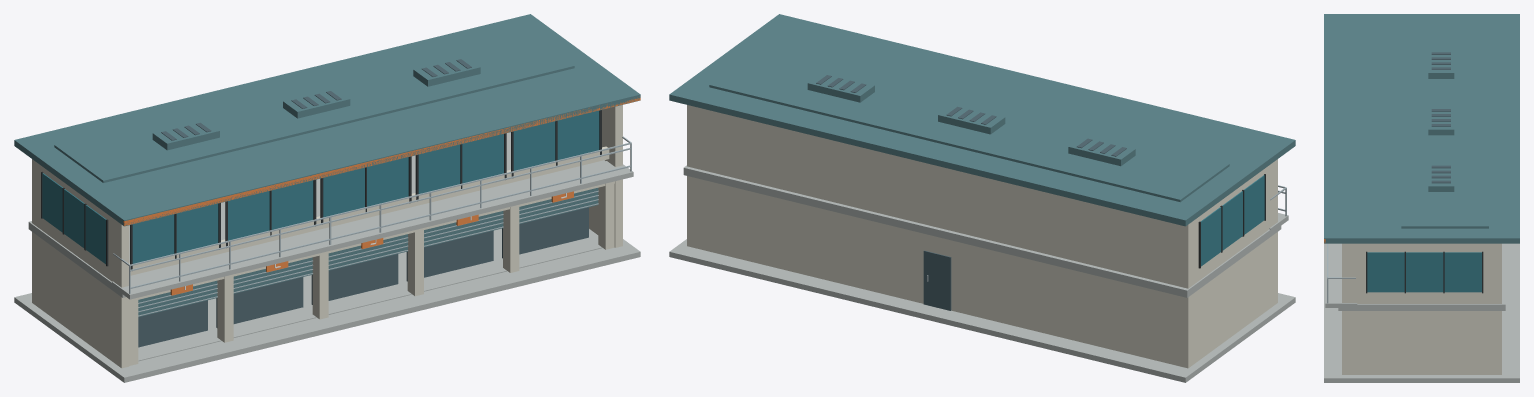
Rendered from pit-building.glb.
The picture shows the model from 3 angles, left to right: view 1: azimuth 30°, elevation 25°; view 2: azimuth 150°, elevation 25°; view 3: azimuth 270°, elevation 25°; orthographic projection. The views are drawn at different scales.
Parts seen in each view (by area): view 1: PitRoof, PitConcrete, PitCreamWalls, ObservationGlazing, GarageInteriors, PitRailings, PitOrangeTrim, WindowFrames; view 2: PitCreamWalls, PitRoof, PitConcrete, ObservationGlazing, GarageInteriors; view 3: PitRoof, PitCreamWalls, PitConcrete, ObservationGlazing, GarageInteriors, WindowFrames.
Boxes of the visible parts, x1=… form: PitRoof: x1=14, y1=14, x2=640, y2=316; PitConcrete: x1=14, y1=132, x2=640, y2=382; PitCreamWalls: x1=32, y1=105, x2=622, y2=368; ObservationGlazing: x1=42, y1=110, x2=599, y2=264; GarageInteriors: x1=138, y1=59, x2=588, y2=347; PitRailings: x1=113, y1=136, x2=631, y2=316; PitOrangeTrim: x1=123, y1=97, x2=640, y2=295; WindowFrames: x1=41, y1=110, x2=601, y2=269; PitCreamWalls: x1=687, y1=105, x2=1277, y2=368; PitRoof: x1=669, y1=14, x2=1295, y2=226; PitConcrete: x1=669, y1=165, x2=1295, y2=382; ObservationGlazing: x1=1201, y1=175, x2=1264, y2=266; GarageInteriors: x1=816, y1=75, x2=1126, y2=310; PitRoof: x1=1324, y1=14, x2=1519, y2=243; PitCreamWalls: x1=1342, y1=243, x2=1501, y2=374; PitConcrete: x1=1324, y1=243, x2=1519, y2=382; ObservationGlazing: x1=1367, y1=252, x2=1481, y2=292; GarageInteriors: x1=1431, y1=52, x2=1450, y2=183; WindowFrames: x1=1366, y1=251, x2=1483, y2=293.
Size of the model in its own units: 20.6 by 6.56 by 7.6.
